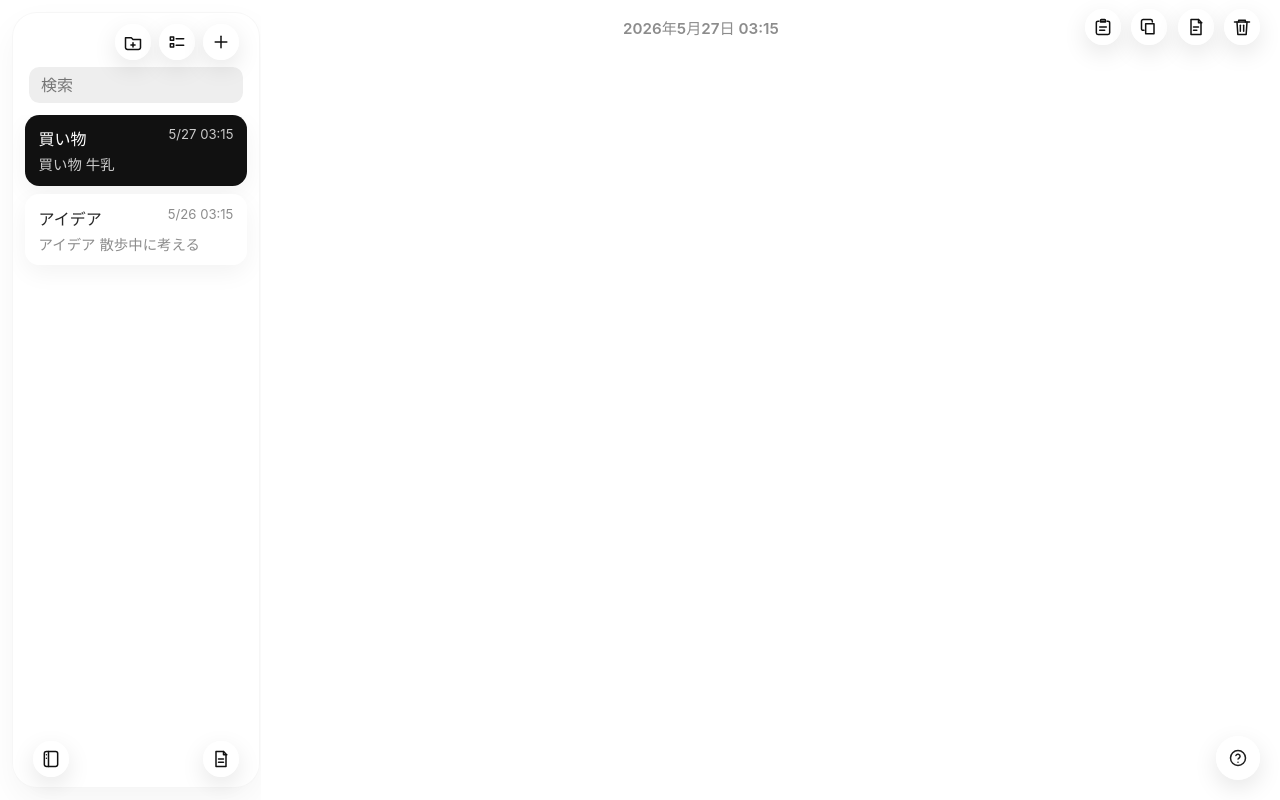
Test case: App › opens the command palette from the app-wide shortcut and opens a matching note
Press k
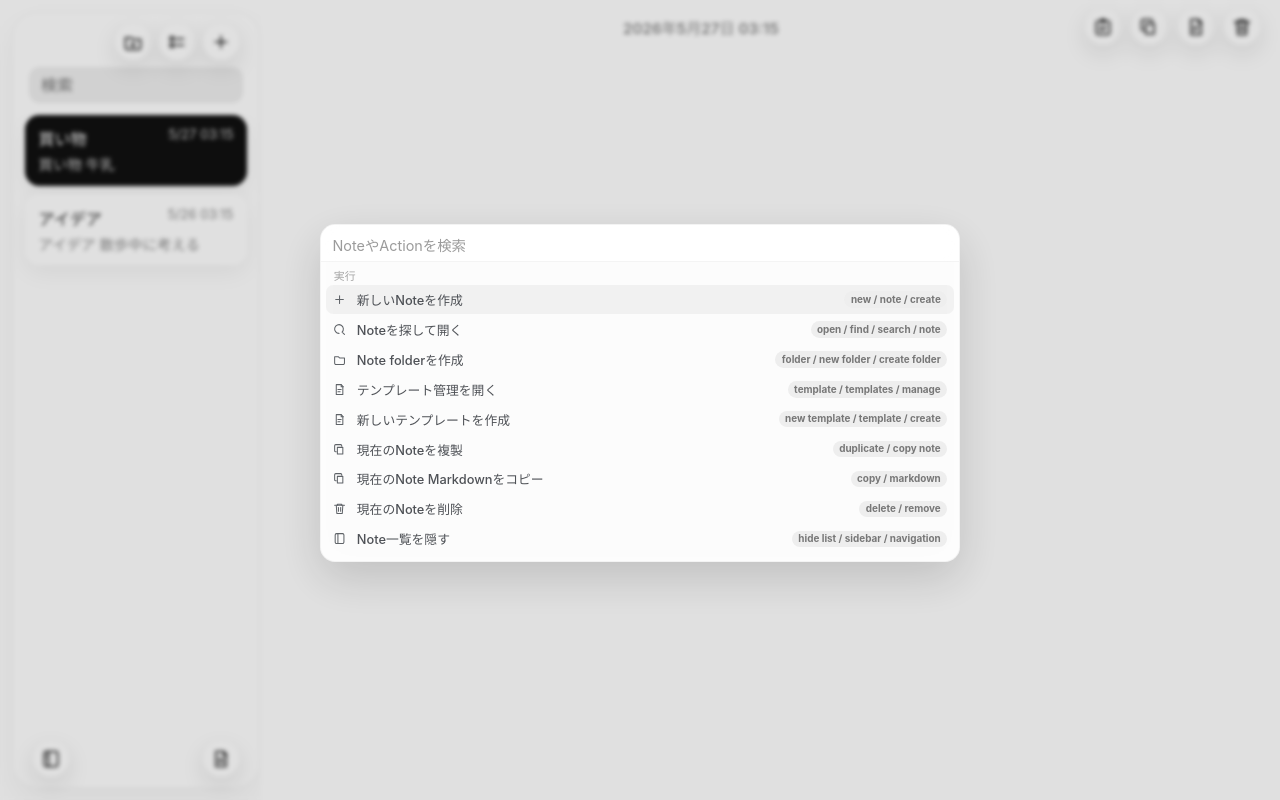
Now the button "ショートカット一覧" is gone
Type "散歩" into the field labelled "NoteやActionを検索" at coordinates (640, 245), box top-left (332, 236), bottom-right (948, 255)
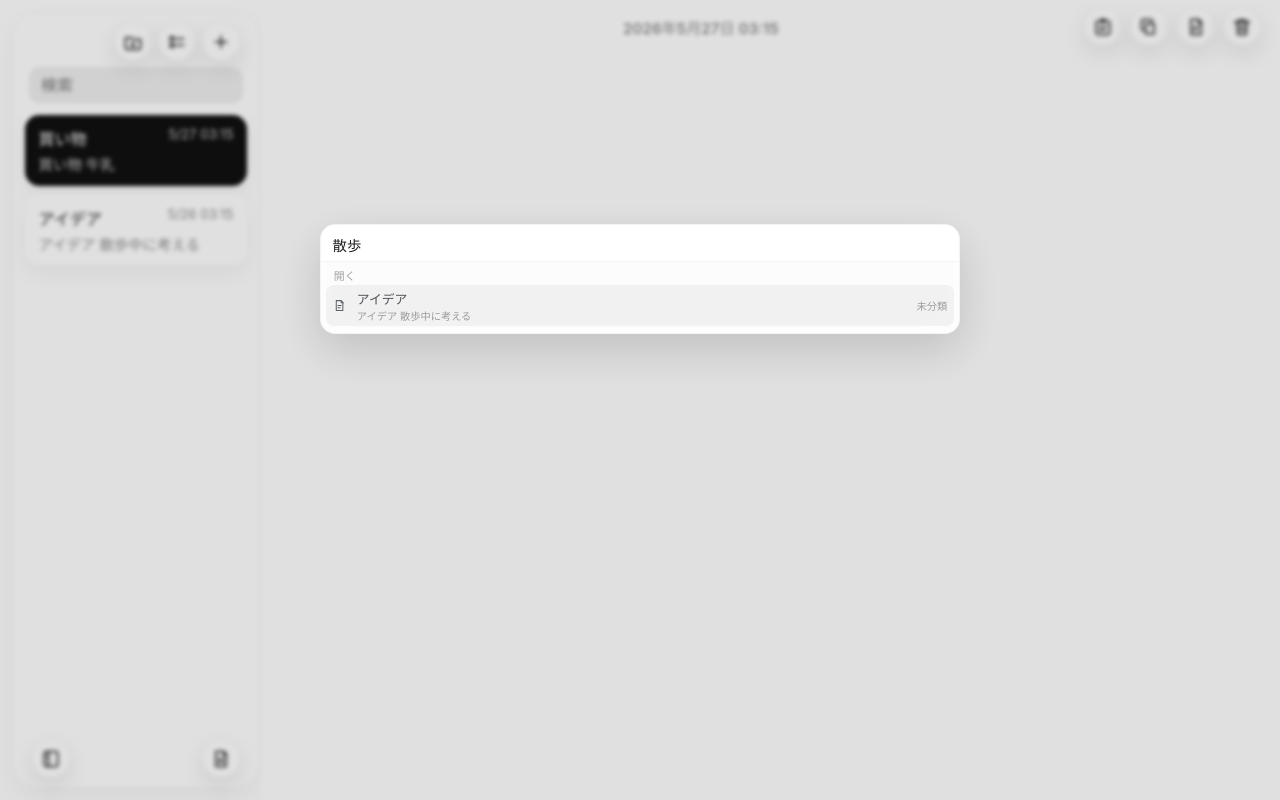
Click the button "アイデア アイデア 散歩中に考える 未分類" at coordinates (382, 299), box top-left (326, 285), bottom-right (954, 326)
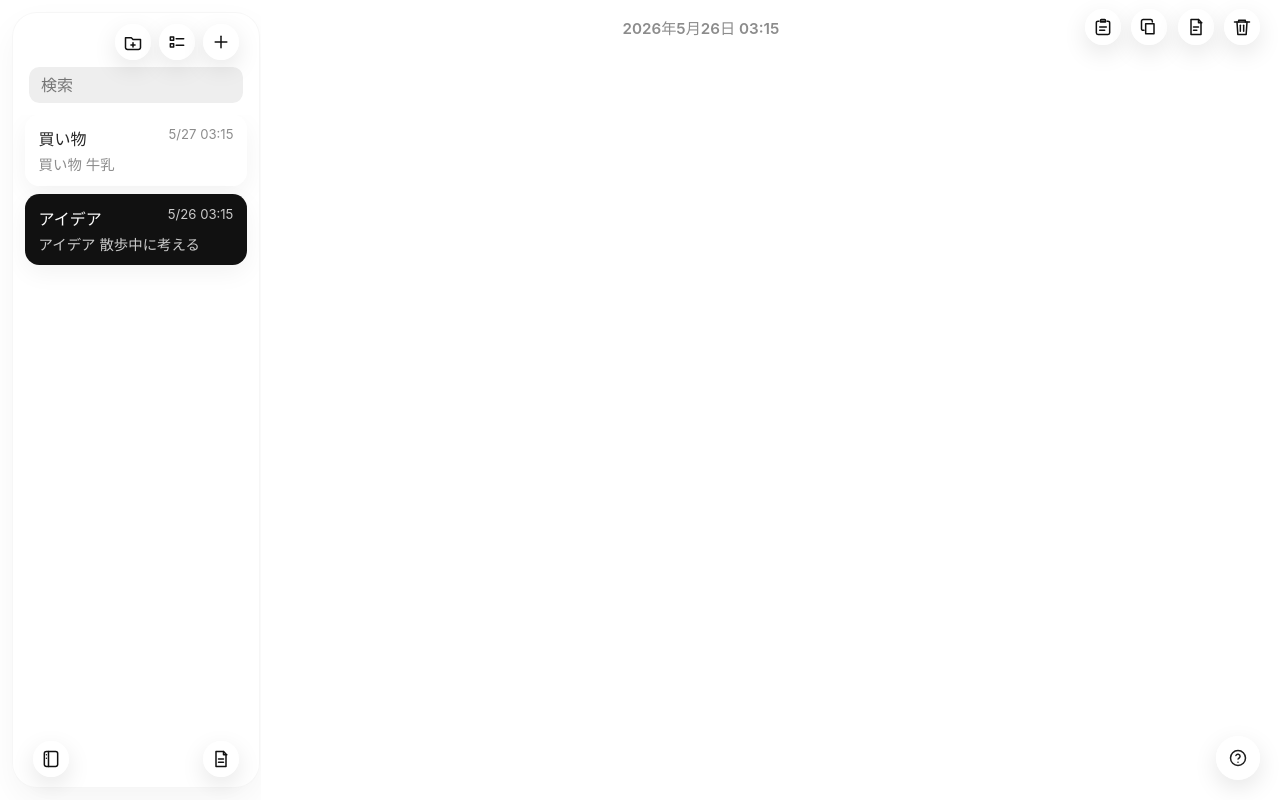
Expected: the search field named "Noteを検索" is empty, top-left (29, 67), bottom-right (243, 103)
Now the dialog is gone
